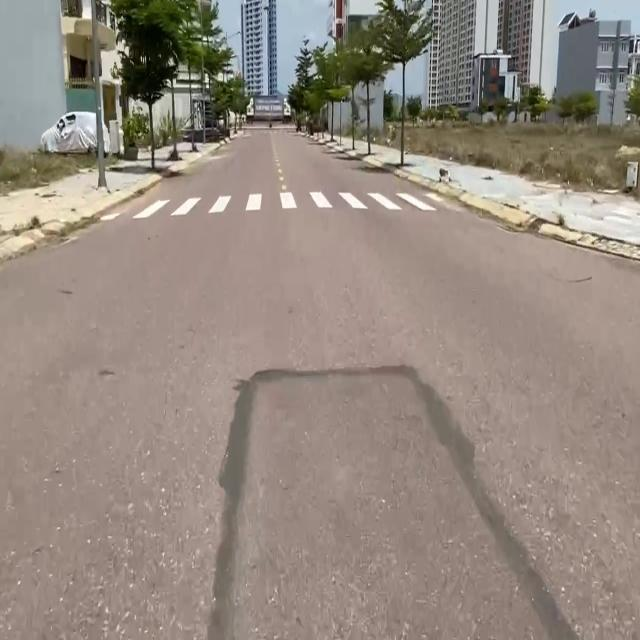walk-crossing: (116, 192, 444, 214)
